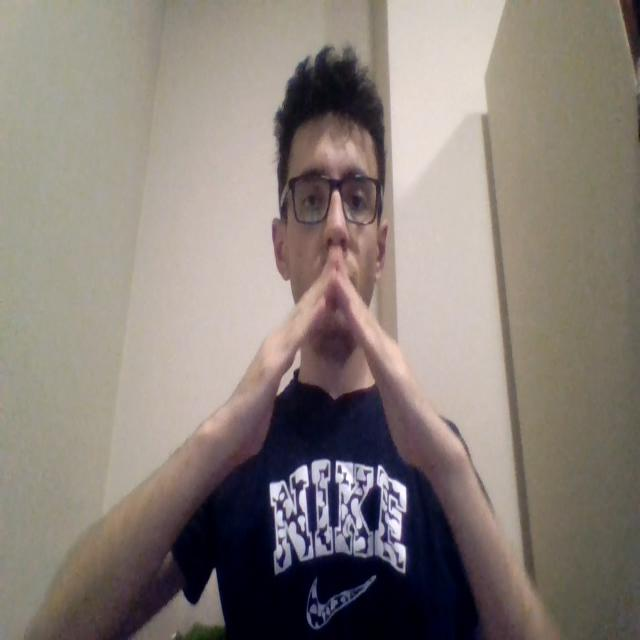house: (217, 248, 460, 483)
